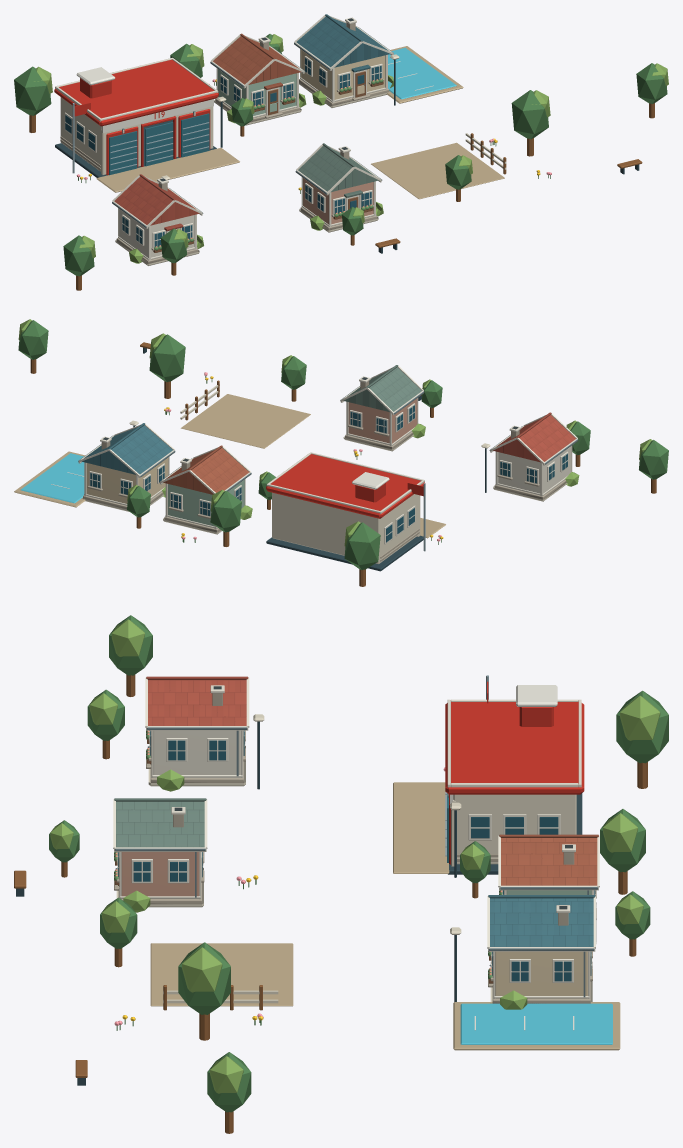
The model's file is village-rect.glb.
The picture shows the model from 3 angles, top to bottom: view 1: azimuth 30°, elevation 25°; view 2: azimuth 150°, elevation 25°; view 3: azimuth 270°, elevation 25°; orthographic projection. The views are drawn at different scales.
Visible parts, largest first — view 1: Village, Station, GarageDoor; view 2: Village, Station; view 3: Village, Station.
Part boxes in pixels (<box>): Village: <box>14,14,668,290</box>; Station: <box>54,57,218,177</box>; GarageDoor: <box>145,122,173,166</box>; Village: <box>14,319,668,586</box>; Station: <box>266,452,425,571</box>; Village: <box>14,615,668,1133</box>; Station: <box>445,675,584,874</box>.
Bounding box in the file's own units: 43.95 × 5.17 × 26.62.
38 materials, 4 textured.
